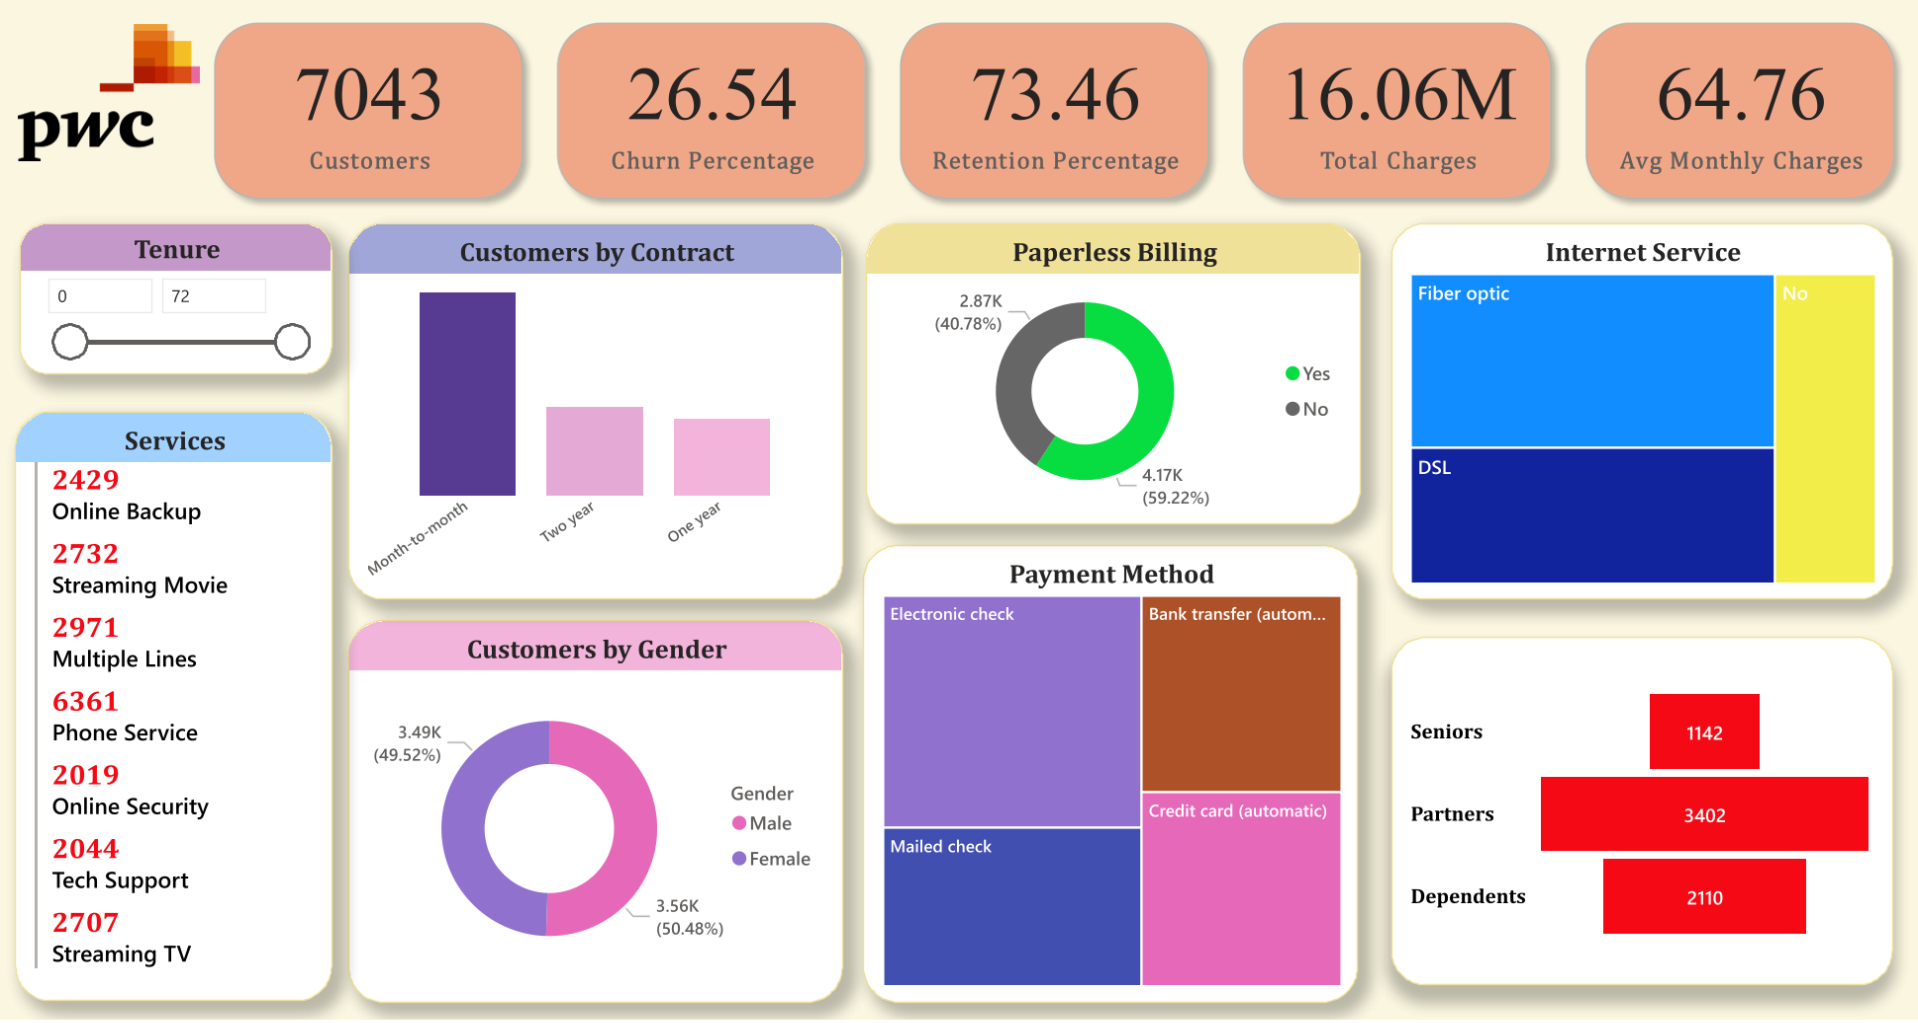

What the dashboard file says about the page in this screenshot:
{"tool":"powerbi","page":{"name":"Churn Analysis","canvas":[1350,720],"ordinal":0},"visuals":[{"type":"cardVisual","fields":{"Data":["Count(01 Churn-Dataset.customerID)","01 Churn-Dataset.Churn %","01 Churn-Dataset.Retention %","Sum(01 Churn-Dataset.TotalCharges)","Avg(01 Churn-Dataset.MonthlyCharges)"]},"box":[134.9,0,1215.7,158.2],"z":0},{"type":"image","box":[0,12.9,155.3,106.8],"z":1000},{"type":"treemap","title":"Internet Service","fields":{"Group":["01 Churn-Dataset.InternetService"],"Values":["CountNonNull(01 Churn-Dataset.InternetService)"]},"box":[979.2,158.2,353,266.5],"z":2000},{"type":"donutChart","title":"Customers by Gender","fields":{"Category":["01 Churn-Dataset.gender"],"Y":["CountNonNull(01 Churn-Dataset.customerID)"]},"box":[246.5,438,348.1,269.8],"z":3000},{"type":"treemap","title":"Payment Method","fields":{"Group":["01 Churn-Dataset.PaymentMethod"],"Values":["CountNonNull(01 Churn-Dataset.PaymentMethod)"]},"box":[607.8,384.7,348.1,323.1],"z":4000},{"type":"multiRowCard","title":"Services","fields":{"Values":["01 Churn-Dataset.Backup","01 Churn-Dataset.Movie","01 Churn-Dataset.MultiLines","01 Churn-Dataset.Phone","01 Churn-Dataset.security","01 Churn-Dataset.Support","01 Churn-Dataset.TV"]},"box":[11.7,291.4,223.2,416.3],"z":5000},{"type":"funnel","fields":{"Y":["01 Churn-Dataset.Senior","01 Churn-Dataset.Partnersno","01 Churn-Dataset.Dep"]},"box":[979.2,449.6,353,246.5],"z":6000},{"type":"columnChart","title":"Customers by Contract","fields":{"Category":["01 Churn-Dataset.Contract"],"Y":["Count(01 Churn-Dataset.customerID)"]},"box":[246.5,158.2,348.1,266.5],"z":7000},{"type":"donutChart","title":"Paperless Billing","fields":{"Y":["CountNonNull(01 Churn-Dataset.customerID)"],"Category":["01 Churn-Dataset.PaperlessBilling"]},"box":[609.5,158.2,348.1,213.2],"z":8000},{"type":"slicer","title":"Tenure","fields":{"Values":["01 Churn-Dataset.tenure"]},"box":[15,158.2,219.8,106.6],"z":9000}]}

Visuals, with their boxes in screenshot pixels (x1, y1, x2, y2), scaled from the page's 1350x720 canvas onto the 1918x1023 screenshot:
cardVisual - Count(01 Churn-Dataset.customerID) x 01 Churn-Dataset.Churn %: 192 0 1917 225
image: 0 18 221 170
"Internet Service" treemap: 1391 225 1893 603
"Customers by Gender" donutChart: 350 622 845 1006
"Payment Method" treemap: 864 547 1358 1006
"Services" multiRowCard: 17 414 334 1006
funnel - 01 Churn-Dataset.Senior x 01 Churn-Dataset.Partnersno: 1391 639 1893 989
"Customers by Contract" columnChart: 350 225 845 603
"Paperless Billing" donutChart: 866 225 1361 528
"Tenure" slicer: 21 225 334 376
